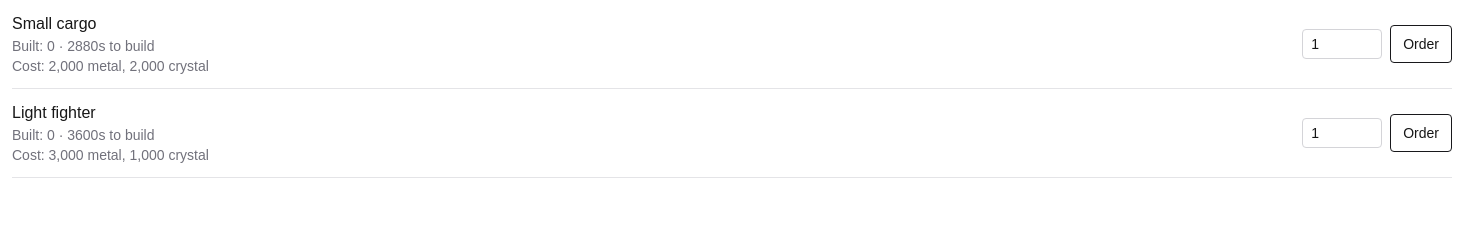
Scenario: ShipyardView › shows the detail from a 409 response
Expected: the text "Small cargo" is shown, [12,15,96,32]
Click the button with aria-label "Order Small cargo" at (1421, 44), box [1390,25,1452,63]
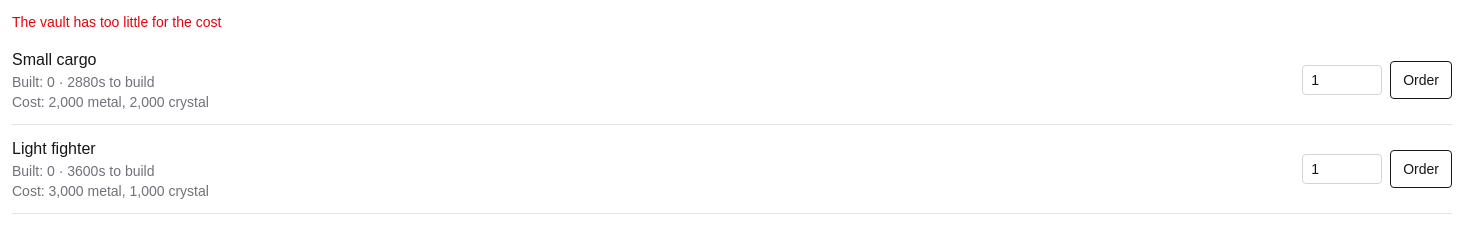
Now the message reads "The vault has too little for the cost", box [12,14,221,30]
